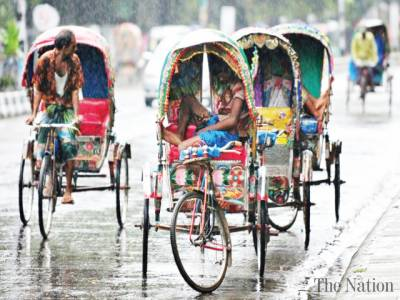Rickshaw: (148, 29, 258, 279), (19, 14, 132, 227), (229, 14, 314, 252), (274, 12, 355, 236)
